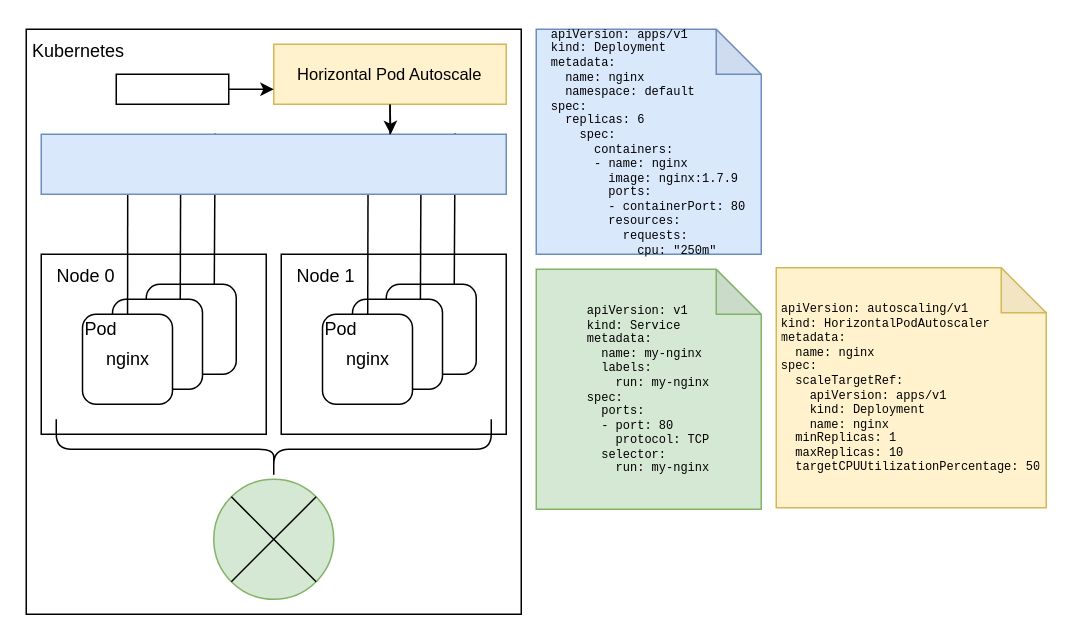
Some shapes in this 1073 by 642 pixel diagram are drawn without their labels. Each missing label, with the box of its shape:
deployment nginx: (40, 133, 506, 194)
metric server: (115, 73, 229, 104)
service: (212, 478, 334, 599)
